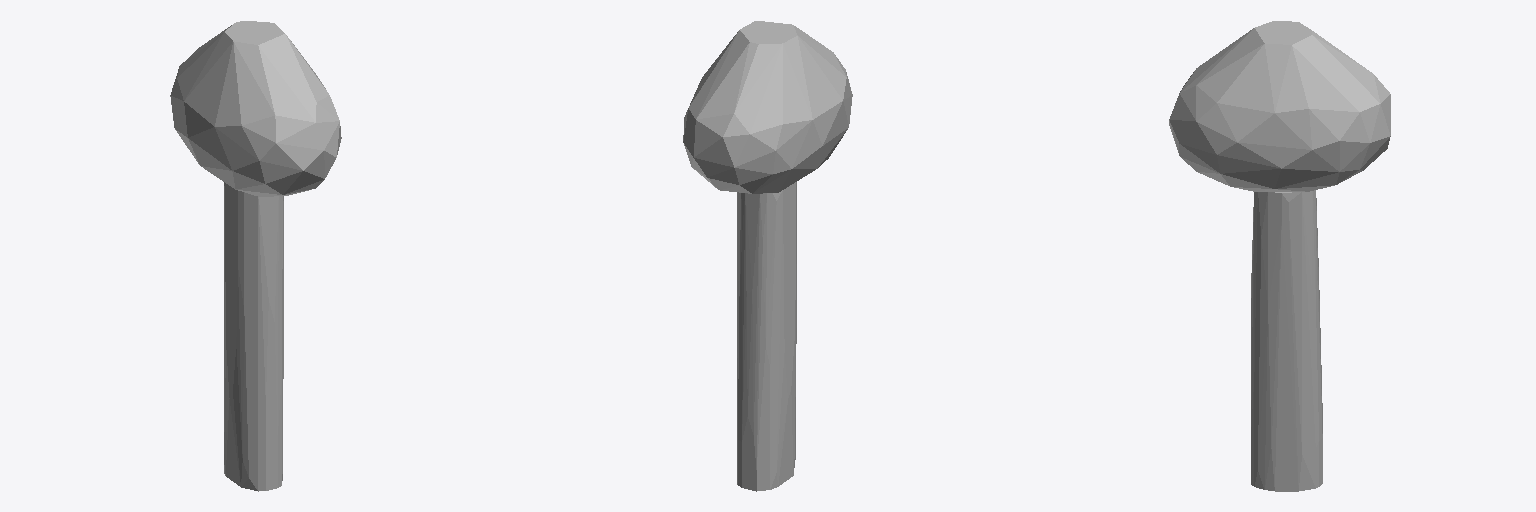
robot.urdf — root:
<robot name="root">
  <link name="link_5b4574dd6fec612e3d2dd82a57bb3bd7_convex_piece_0">
    <inertial>
      <origin rpy="0 0 0" xyz="0 0 0"/>
      <mass value="7.66E-06"/>
      <inertia ixx="1.92E-09" ixy="-2.01E-12" ixz="4.04E-11" iyy="1.88E-09" iyz="-1.62E-10" izz="1.63E-10"/>
    </inertial>
    <visual>
      <origin rpy="0 0 0" xyz="0 0 0"/>
      <geometry>
        <mesh filename="5b4574dd6fec612e3d2dd82a57bb3bd7_convex_piece_0.obj" scale="1.0000E+00"/>
      </geometry>
      <material name="">
        <color rgba="7.50E-01 7.50E-01 7.50E-01 1"/>
      </material>
    </visual>
    <collision>
      <origin rpy="0 0 0" xyz="0 0 0"/>
      <geometry>
        <mesh filename="5b4574dd6fec612e3d2dd82a57bb3bd7_convex_piece_0.obj" scale="1.0000E+00"/>
      </geometry>
    </collision>
  </link>
  <link name="link_5b4574dd6fec612e3d2dd82a57bb3bd7_convex_piece_1">
    <inertial>
      <origin rpy="0 0 0" xyz="0 0 0"/>
      <mass value="2.05E-05"/>
      <inertia ixx="1.57E-08" ixy="-2.02E-13" ixz="2.05E-11" iyy="1.45E-08" iyz="-6.72E-11" izz="2.93E-09"/>
    </inertial>
    <visual>
      <origin rpy="0 0 0" xyz="0 0 0"/>
      <geometry>
        <mesh filename="5b4574dd6fec612e3d2dd82a57bb3bd7_convex_piece_1.obj" scale="1.0000E+00"/>
      </geometry>
      <material name="">
        <color rgba="7.50E-01 7.50E-01 7.50E-01 1"/>
      </material>
    </visual>
    <collision>
      <origin rpy="0 0 0" xyz="0 0 0"/>
      <geometry>
        <mesh filename="5b4574dd6fec612e3d2dd82a57bb3bd7_convex_piece_1.obj" scale="1.0000E+00"/>
      </geometry>
    </collision>
  </link>
  <joint name="link_5b4574dd6fec612e3d2dd82a57bb3bd7_convex_piece_1_joint" type="fixed">
    <origin rpy="0 0 0" xyz="0 0 0"/>
    <parent link="link_5b4574dd6fec612e3d2dd82a57bb3bd7_convex_piece_0"/>
    <child link="link_5b4574dd6fec612e3d2dd82a57bb3bd7_convex_piece_1"/>
  </joint>
</robot>

--- Render facts (derived) ---
The picture shows the robot from 3 angles, left to right: view 1: azimuth 30°, elevation 25°; view 2: azimuth 150°, elevation 25°; view 3: azimuth 270°, elevation 25°; orthographic projection.
Robot: root — 2 links, 1 joints (1 fixed); root link link_5b4574dd6fec612e3d2dd82a57bb3bd7_convex_piece_0; default pose: every joint at zero.
Visible links, largest first — view 1: link_5b4574dd6fec612e3d2dd82a57bb3bd7_convex_piece_1, link_5b4574dd6fec612e3d2dd82a57bb3bd7_convex_piece_0; view 2: link_5b4574dd6fec612e3d2dd82a57bb3bd7_convex_piece_1, link_5b4574dd6fec612e3d2dd82a57bb3bd7_convex_piece_0; view 3: link_5b4574dd6fec612e3d2dd82a57bb3bd7_convex_piece_1, link_5b4574dd6fec612e3d2dd82a57bb3bd7_convex_piece_0.
Boxes of the visible links, x1=… form: link_5b4574dd6fec612e3d2dd82a57bb3bd7_convex_piece_1: x1=170, y1=21, x2=341, y2=196; link_5b4574dd6fec612e3d2dd82a57bb3bd7_convex_piece_0: x1=224, y1=182, x2=283, y2=491; link_5b4574dd6fec612e3d2dd82a57bb3bd7_convex_piece_1: x1=683, y1=21, x2=852, y2=193; link_5b4574dd6fec612e3d2dd82a57bb3bd7_convex_piece_0: x1=737, y1=182, x2=796, y2=491; link_5b4574dd6fec612e3d2dd82a57bb3bd7_convex_piece_1: x1=1169, y1=21, x2=1390, y2=191; link_5b4574dd6fec612e3d2dd82a57bb3bd7_convex_piece_0: x1=1251, y1=190, x2=1322, y2=491.
Bounding box of the posed robot: 0.0291 × 0.045 × 0.1003 m (x, y, z).
Meshes: 2 distinct files referenced, 2 mesh visuals loaded (2 OBJ).
